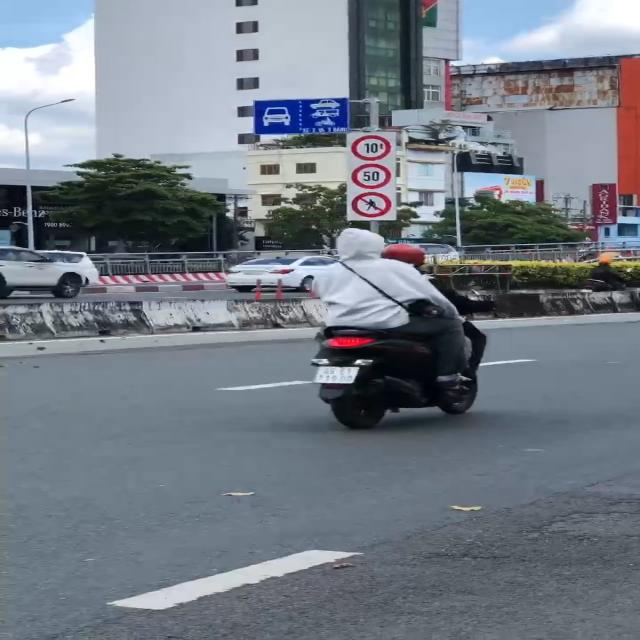Bien bao cam nguoi di bo: (348, 189, 400, 220)
Bien bao toc do toi da cho phep: (347, 160, 402, 190)
